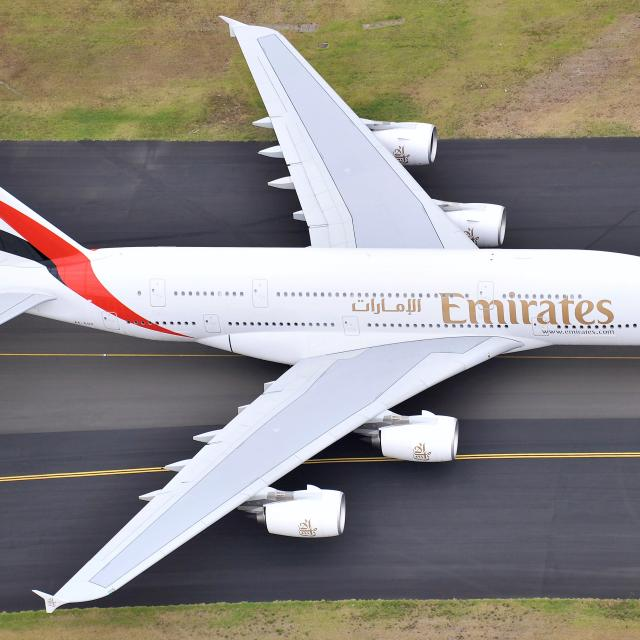A380: (7, 14, 640, 607)
